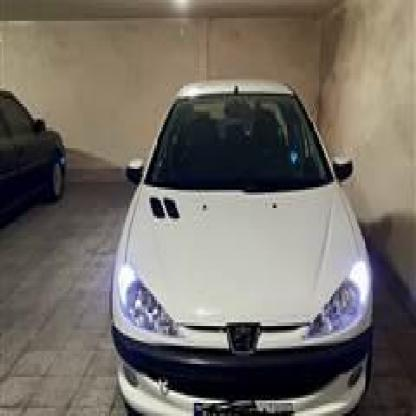Car: (102, 52, 374, 416), (0, 57, 66, 234)
